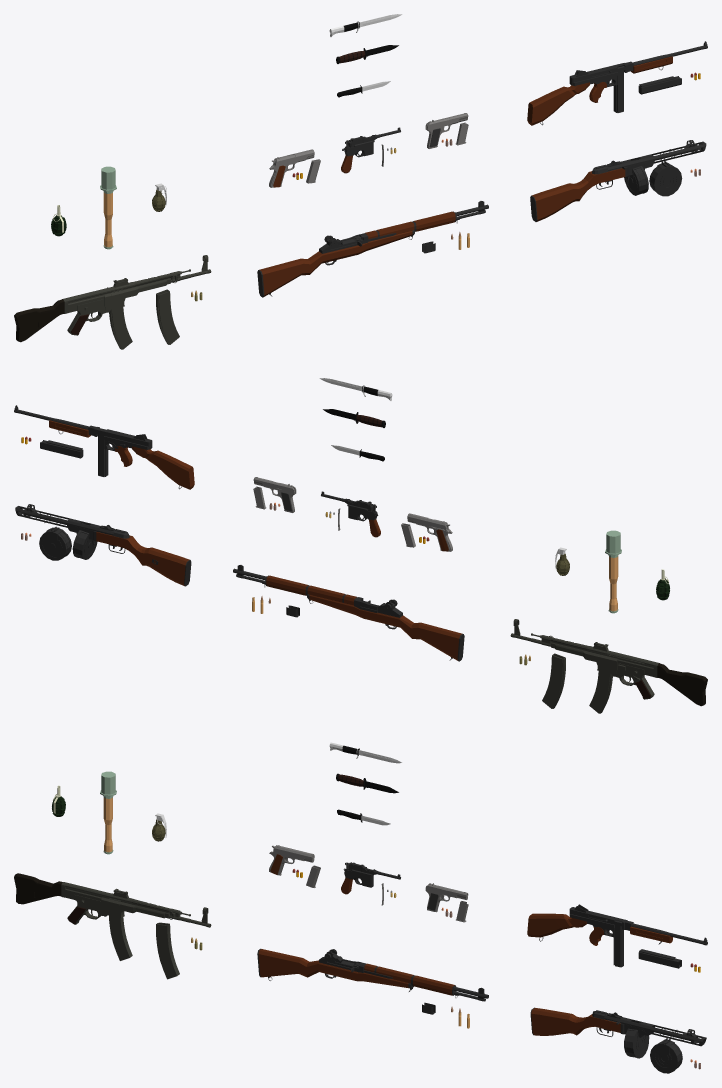
Rendered from LowPolyWWIIWeaponsSketchfab.fbx.
3 renders of one model, top to bottom at view 1: azimuth 30°, elevation 25°; view 2: azimuth 150°, elevation 25°; view 3: azimuth 330°, elevation 25°, orthographic.
Parts seen in each view (by area): view 1: STG 44, M1 Garand, PPSH 41, Thompson M1, German Stick Grenade, PPSH 41 Magazine, Mauser C96, STG 44 Maganize, M1911, TT Pistol; view 2: STG 44, M1 Garand, PPSH 41, Thompson M1, German Stick Grenade, PPSH 41 Magazine, Mauser C96, STG 44 Maganize, M1911, TT Pistol; view 3: STG 44, M1 Garand, PPSH 41, Thompson M1, German Stick Grenade, PPSH 41 Magazine, STG 44 Maganize, Mauser C96, M1911, TT Pistol.
Boxes of the visible parts, left/top/right/bottom form: STG 44: left=14, top=255, right=211, bottom=349; M1 Garand: left=257, top=201, right=488, bottom=297; PPSH 41: left=530, top=140, right=706, bottom=221; Thompson M1: left=527, top=41, right=707, bottom=125; German Stick Grenade: left=100, top=166, right=116, bottom=249; PPSH 41 Magazine: left=649, top=161, right=682, bottom=196; Mauser C96: left=341, top=127, right=400, bottom=173; STG 44 Maganize: left=156, top=289, right=179, bottom=344; M1911: left=269, top=149, right=314, bottom=187; TT Pistol: left=425, top=113, right=468, bottom=148; STG 44: left=510, top=619, right=707, bottom=713; M1 Garand: left=233, top=565, right=464, bottom=661; PPSH 41: left=15, top=504, right=191, bottom=586; Thompson M1: left=14, top=405, right=194, bottom=489; German Stick Grenade: left=605, top=530, right=621, bottom=613; PPSH 41 Magazine: left=39, top=526, right=71, bottom=560; Mauser C96: left=321, top=491, right=380, bottom=537; STG 44 Maganize: left=542, top=653, right=565, bottom=708; M1911: left=407, top=513, right=452, bottom=551; TT Pistol: left=253, top=477, right=296, bottom=512; STG 44: left=14, top=873, right=211, bottom=960; M1 Garand: left=257, top=948, right=488, bottom=1001; PPSH 41: left=530, top=1007, right=706, bottom=1058; Thompson M1: left=527, top=904, right=707, bottom=967; German Stick Grenade: left=100, top=771, right=116, bottom=854; PPSH 41 Magazine: left=650, top=1038, right=682, bottom=1073; STG 44 Maganize: left=156, top=922, right=179, bottom=979; Mauser C96: left=341, top=862, right=400, bottom=894; M1911: left=269, top=845, right=314, bottom=875; TT Pistol: left=425, top=883, right=468, bottom=912.
Bounding box in the file's own units: 333 × 127 × 13.47.
